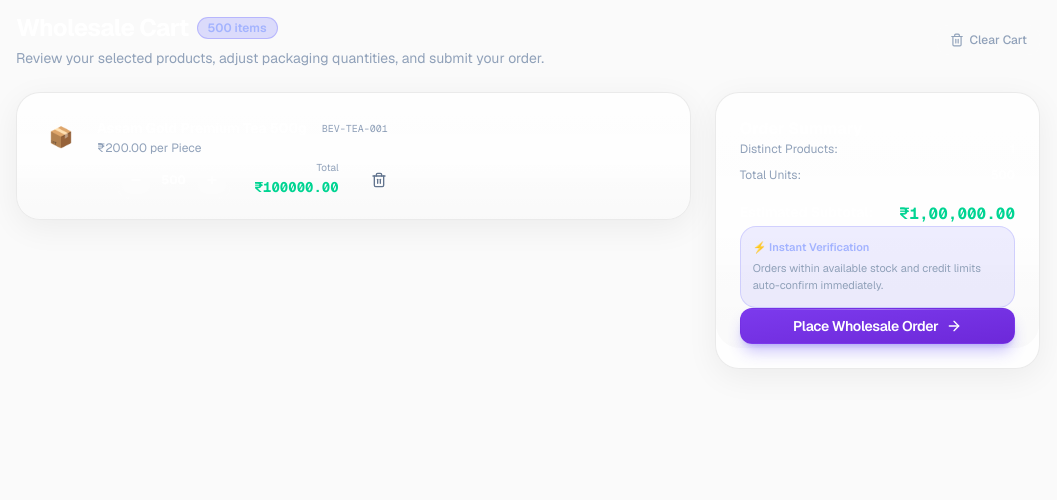
Portal Cart Page (app/portal/cart/page.tsx) › should show pending review alert when order is created in draft
The width and height of the screenshot is (1057, 500).
Click the button "Place Wholesale Order".
click(877, 326)  # box [740,308,1015,344]
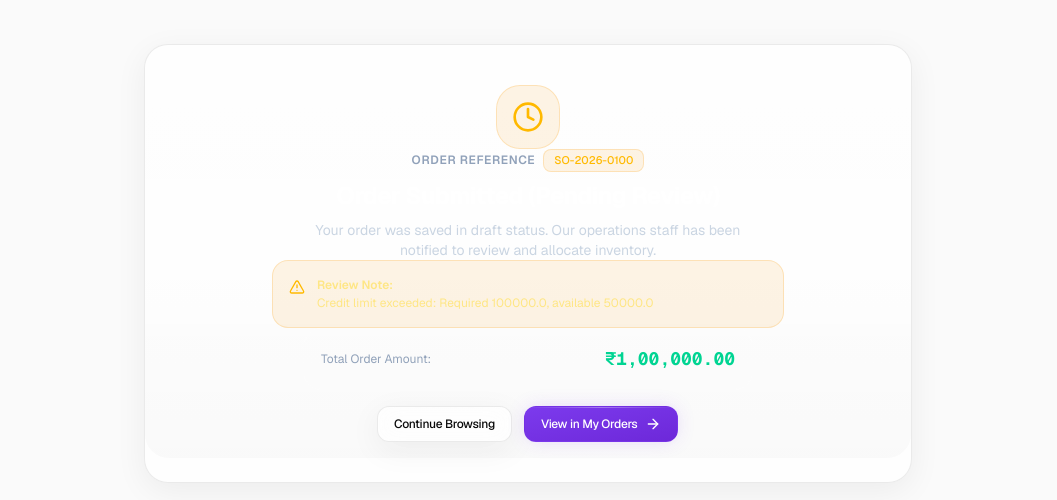
Result: the text "SO-2026-0100" is shown at [543,149,644,172]
Result: the text "Credit limit exceeded: Required 100000.0, available 50000.0" is shown at [317,294,653,310]
